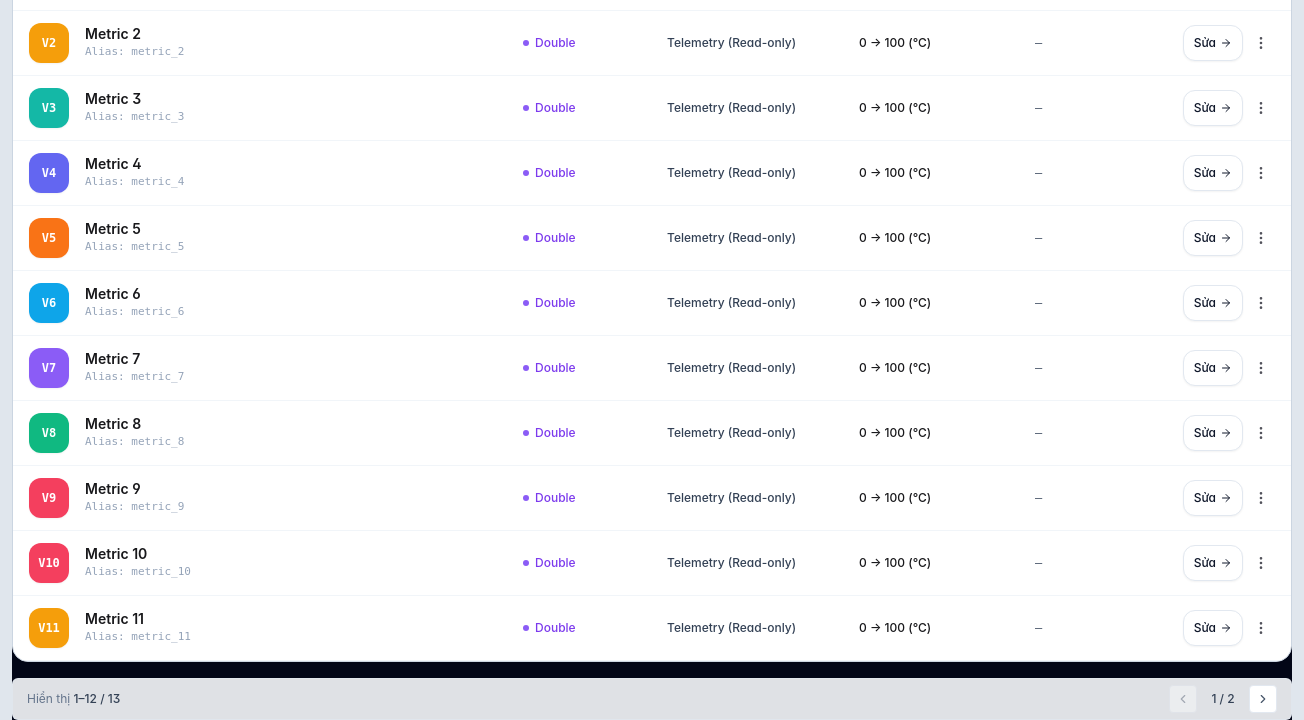
Test case: Workspace presentation permissions › allows project managers to create datastreams and paginates retained records
The width and height of the screenshot is (1304, 720).
(page scrolled)
Check: the text "Metric 12" is not shown
Click the button named "Trang sau" at [1263, 698], box [1249,684,1277,712]
(page scrolled)
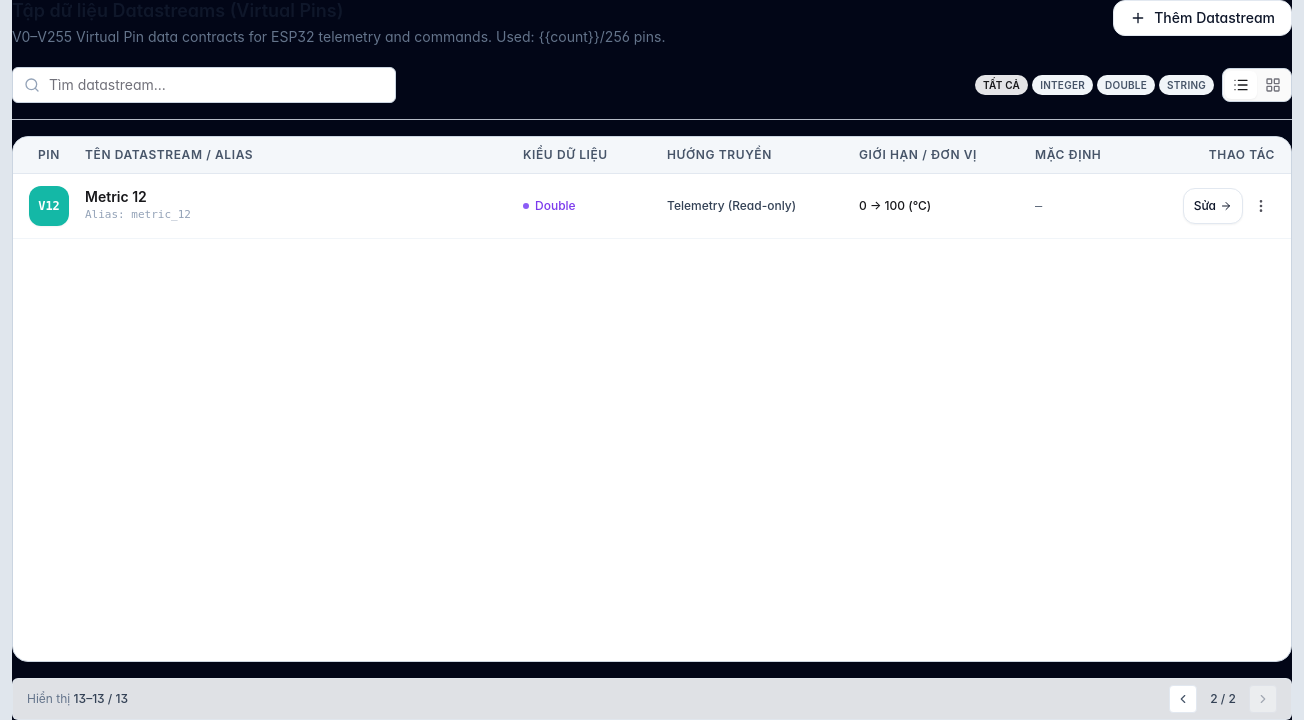
Check: the text "Metric 12" is shown, box [85,188,147,205]
